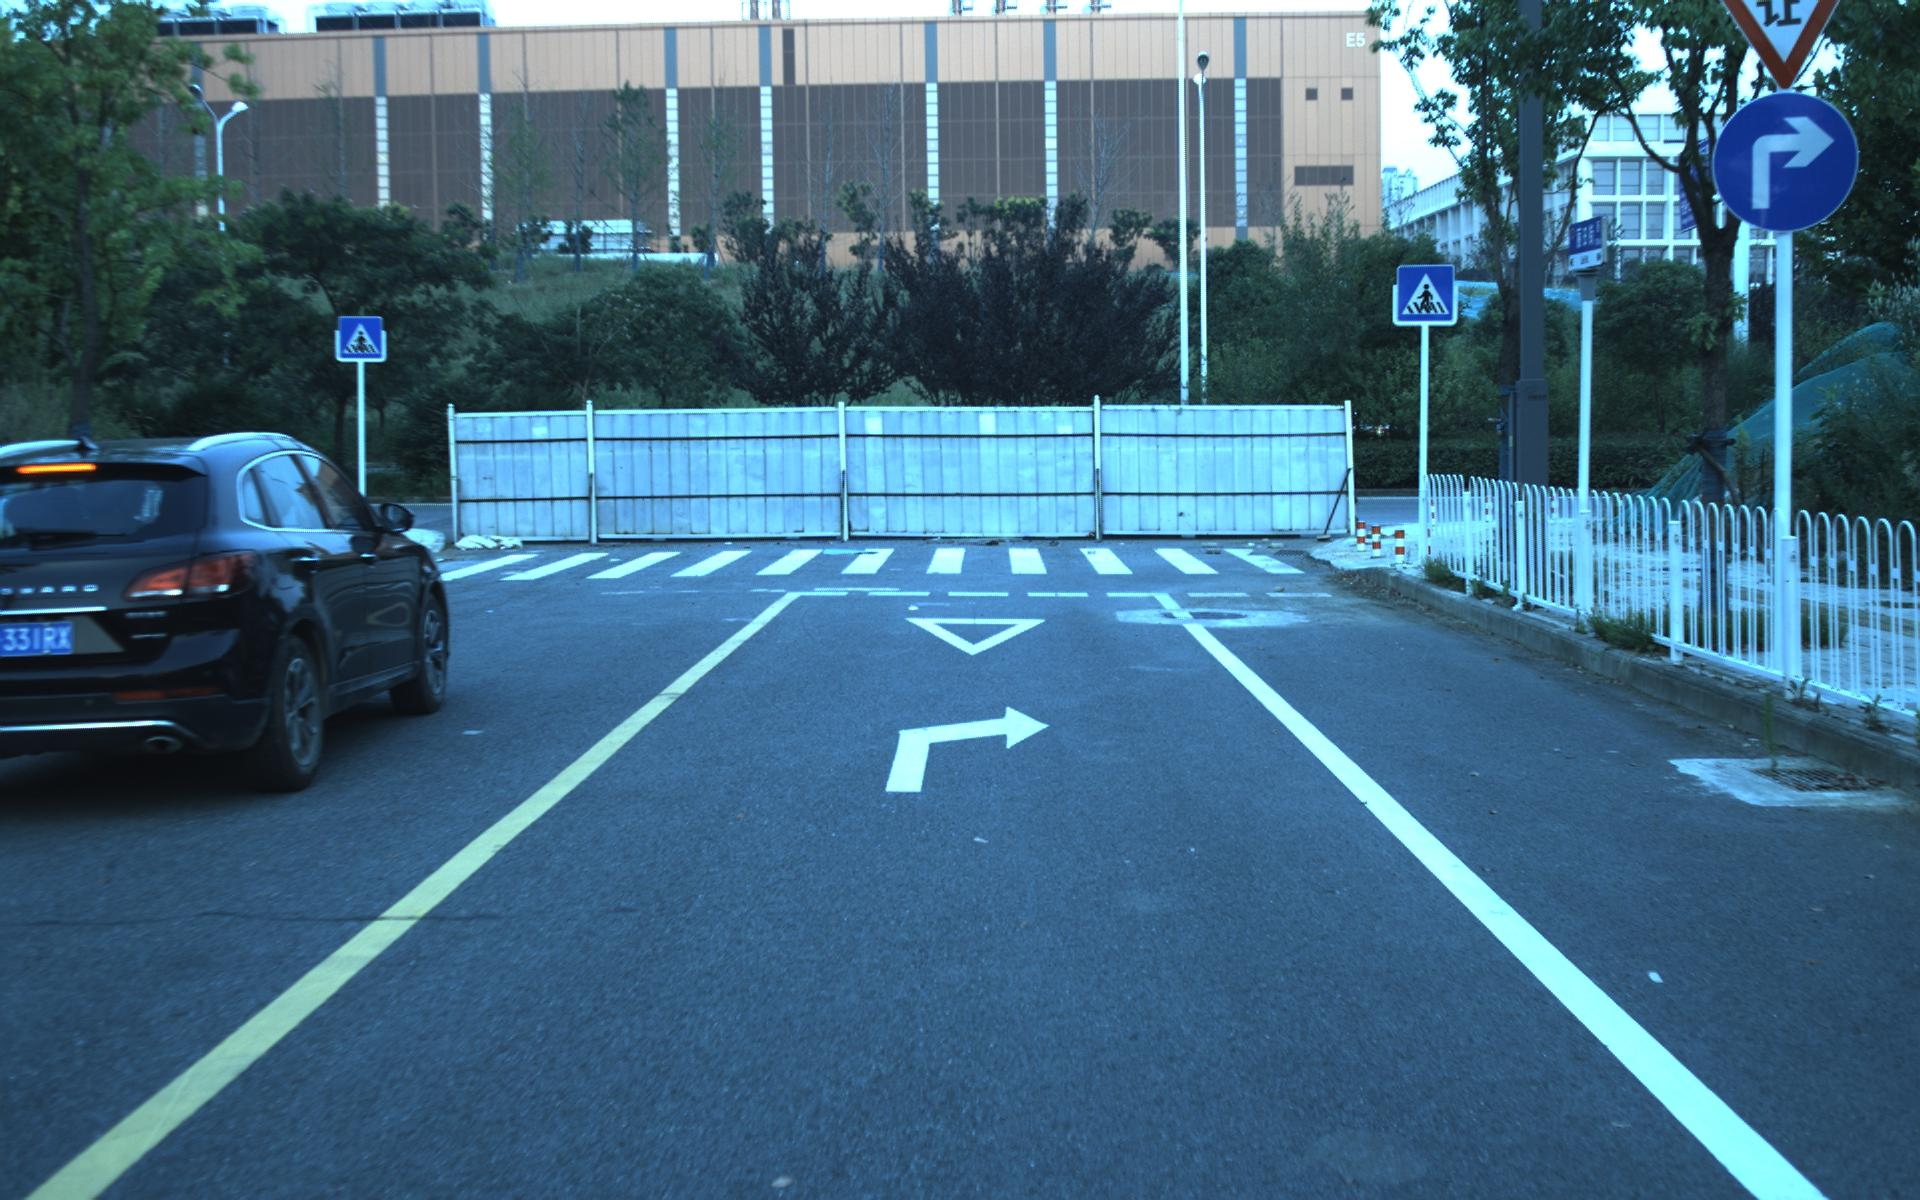Car: (1, 418, 462, 807)
